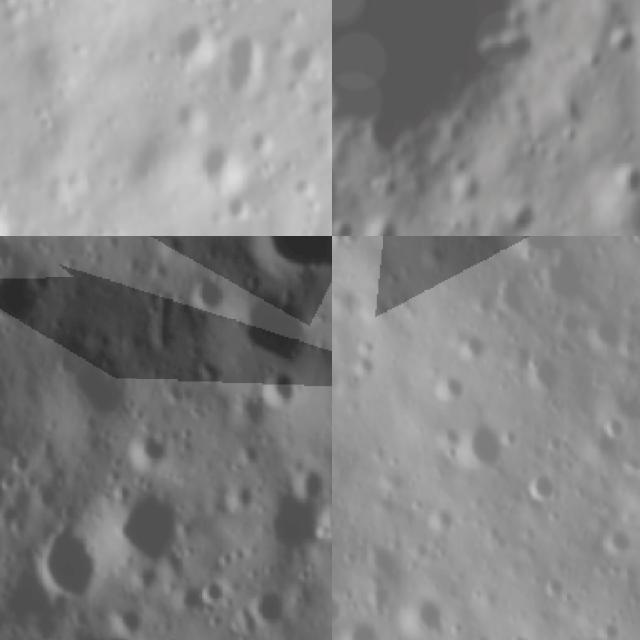crater: (332, 0, 534, 175), (229, 282, 330, 367), (44, 332, 136, 423), (110, 484, 197, 570), (29, 512, 108, 602), (450, 417, 520, 482), (533, 253, 601, 314), (250, 236, 332, 279), (269, 448, 328, 500), (125, 420, 179, 475), (223, 36, 267, 100), (399, 590, 455, 640), (0, 260, 39, 327), (253, 366, 307, 414), (196, 134, 242, 187), (423, 361, 475, 407), (242, 582, 292, 628), (598, 15, 640, 64), (502, 236, 581, 262), (190, 266, 232, 312), (292, 38, 332, 86), (448, 322, 496, 362), (522, 463, 564, 508), (168, 23, 208, 66), (595, 524, 640, 562), (591, 412, 633, 447), (189, 574, 228, 611), (109, 601, 146, 640), (504, 201, 542, 236), (609, 155, 640, 197), (536, 569, 571, 605), (224, 194, 262, 223), (359, 211, 402, 236), (314, 488, 332, 546), (339, 618, 385, 640), (252, 123, 282, 156), (332, 586, 347, 632), (332, 209, 355, 236), (499, 628, 537, 640)
